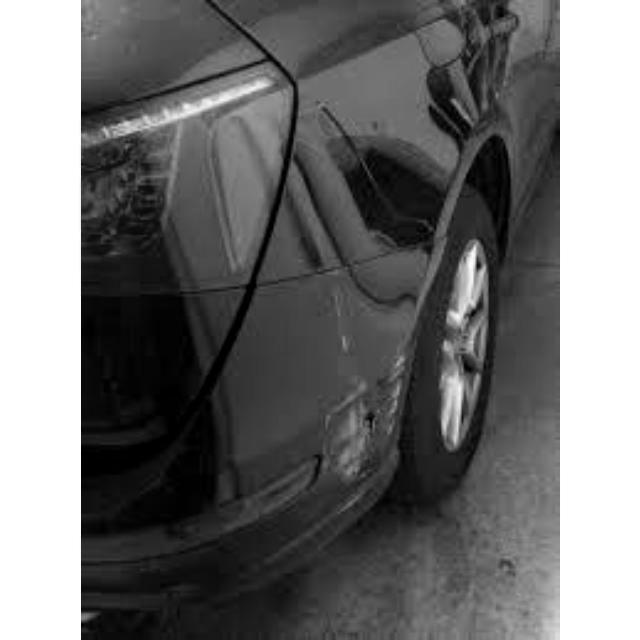rear-bumper-dent: (80, 233, 458, 618)
